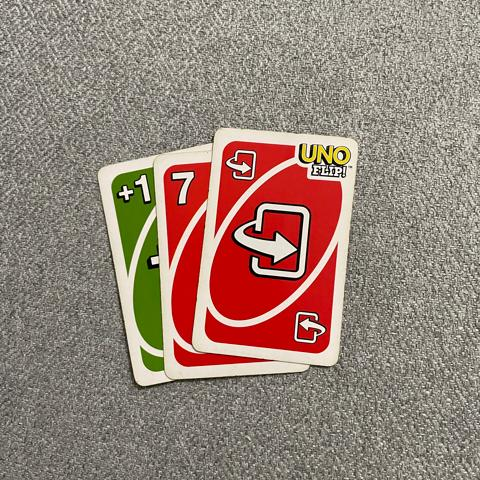lgreen-10: (110, 171, 153, 209)
lred-7: (163, 166, 204, 216)
lredflip-20: (220, 136, 265, 191)
